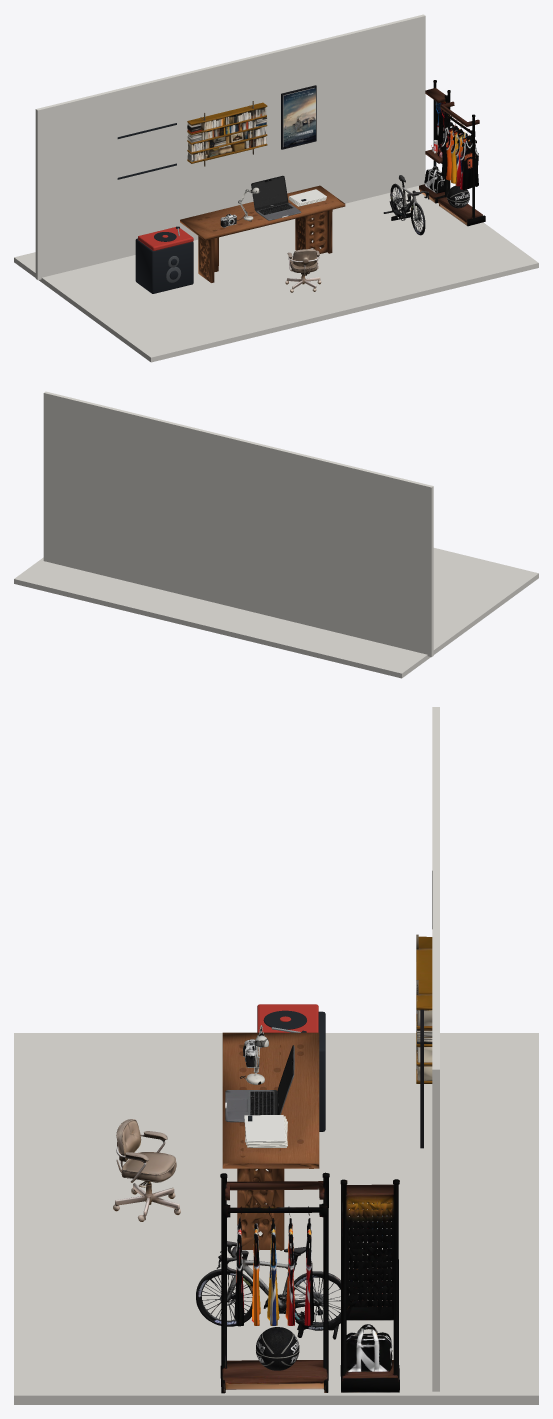
The model's file is peter-hero-current-safe.glb.
The picture shows the model from 3 angles, top to bottom: view 1: azimuth 30°, elevation 25°; view 2: azimuth 150°, elevation 25°; view 3: azimuth 270°, elevation 25°; orthographic projection. The views are drawn at different scales.
Visible parts, largest first — view 1: ENV_BackWall, ENV_Floor, SPORT_Wardrobe_GLB, PROP_Desk_GLB, PROP_Bookcase_GLB, PROP_SpeakerCabinet, SLOT_InterstellarPoster_Clean, PROP_Laptop_GLB, PROP_Bike_GLB, PROP_OfficeChair_GLB, PROP_Turntable; view 2: ENV_BackWall, ENV_Floor; view 3: ENV_Floor, SPORT_Wardrobe_GLB, PROP_Desk_GLB, ENV_BackWall, PROP_Bike_GLB, PROP_OfficeChair_GLB, PROP_Bookcase_GLB, PROP_Laptop_GLB, SPORT_Basketball_GLB, PROP_Turntable, PROP_Document_06, PROP_SpeakerCabinet.
Part boxes in pixels (x1,y1,x2,y2): ENV_BackWall: (35,14,425,279); ENV_Floor: (14,186,538,362); SPORT_Wardrobe_GLB: (419,80,485,226); PROP_Desk_GLB: (180,185,345,282); PROP_Bookcase_GLB: (187,101,267,166); PROP_SpeakerCabinet: (135,238,193,293); SLOT_InterstellarPoster_Clean: (283,88,315,148); PROP_Laptop_GLB: (251,175,301,220); PROP_Bike_GLB: (383,175,429,235); PROP_OfficeChair_GLB: (285,249,321,292); PROP_Turntable: (138,227,193,250); ENV_BackWall: (43,391,433,657); ENV_Floor: (14,548,538,678); ENV_Floor: (14,1033,538,1404); SPORT_Wardrobe_GLB: (220,1172,399,1393); PROP_Desk_GLB: (222,1032,319,1250); ENV_BackWall: (432,707,439,1391); PROP_Bike_GLB: (196,1241,340,1339); PROP_OfficeChair_GLB: (113,1119,180,1221); PROP_Bookcase_GLB: (416,934,432,1083); PROP_Laptop_GLB: (225,1045,294,1122); SPORT_Basketball_GLB: (256,1327,299,1370); PROP_Turntable: (257,1004,318,1032); PROP_Document_06: (244,1115,285,1141); PROP_SpeakerCabinet: (318,1011,325,1131).
Bounding box in the file's own units: 13.57 × 5.71 × 8.2.
Materials: 19 (10 with a texture image).
